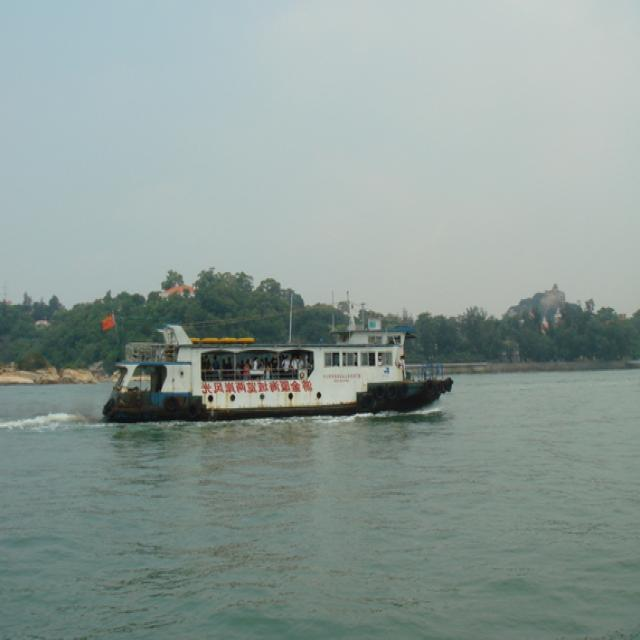houseboat: (85, 289, 452, 416)
